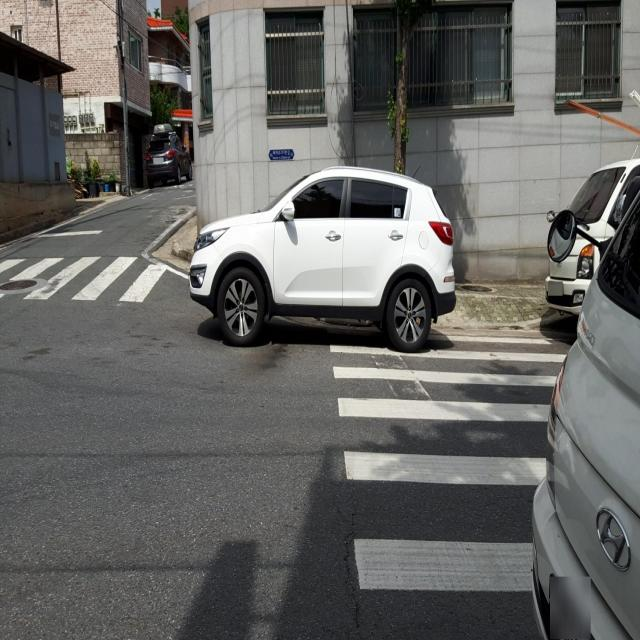횡단보도: (328, 330, 567, 594), (0, 256, 170, 308)
